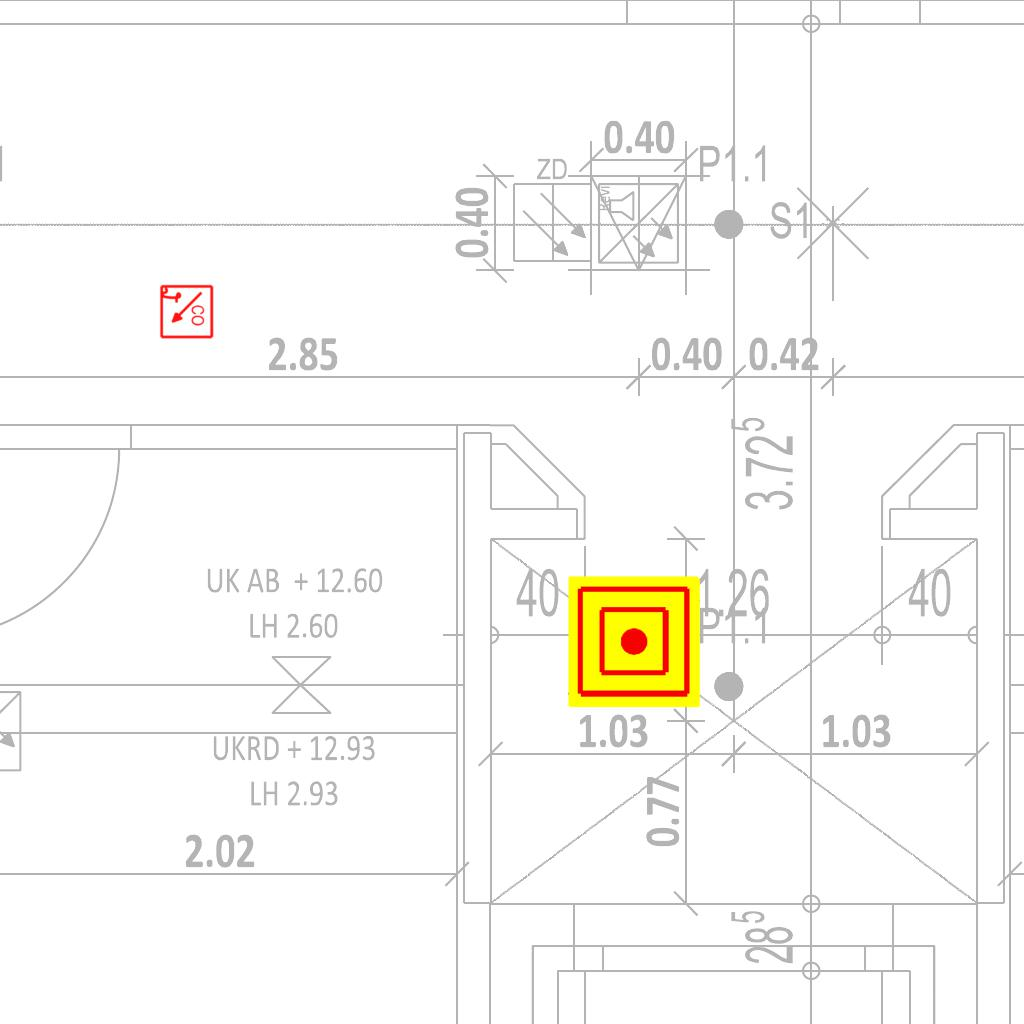NAM-Nichtautomatischer_Melder: (568, 576, 700, 708)
ROA_Rauchmelder_optisch_mit_Signalgeber_(Sockelsirene): (158, 284, 214, 340)
